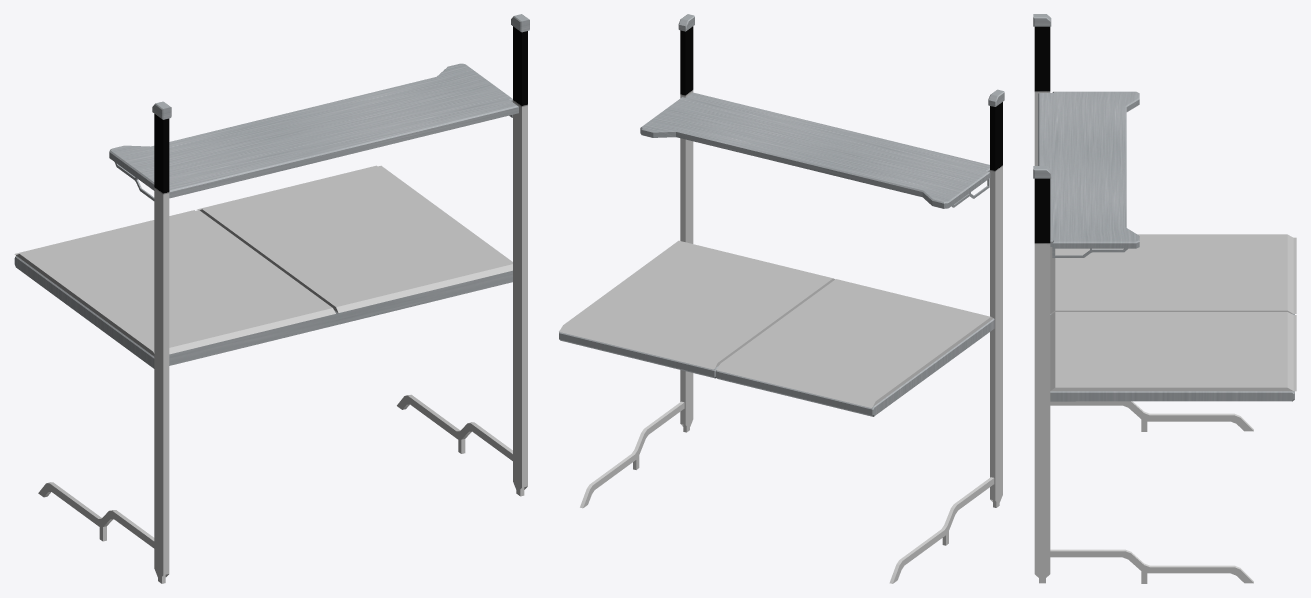
Rendered from PlantTable1.FBX.
The picture shows the model from 3 angles, left to right: view 1: azimuth 30°, elevation 25°; view 2: azimuth 150°, elevation 25°; view 3: azimuth 270°, elevation 25°; orthographic projection. The views are drawn at different scales.
Parts seen in each view (by area): view 1: PlantTable, shelf, shelf_frame, TableTop001; view 2: PlantTable, shelf, shelf_frame, TableTop001; view 3: PlantTable, shelf, shelf_frame, TableTop001.
Boxes of the visible parts, bbox=[...] form: PlantTable: bbox=[14, 165, 512, 356]; shelf: bbox=[109, 63, 518, 200]; shelf_frame: bbox=[38, 14, 529, 583]; TableTop001: bbox=[14, 255, 512, 368]; PlantTable: bbox=[559, 240, 993, 407]; shelf: bbox=[640, 92, 990, 208]; shelf_frame: bbox=[580, 14, 1004, 583]; TableTop001: bbox=[559, 318, 994, 416]; PlantTable: bbox=[1050, 234, 1296, 391]; shelf: bbox=[1038, 91, 1139, 257]; shelf_frame: bbox=[1033, 14, 1253, 583]; TableTop001: bbox=[1050, 314, 1294, 401].
Bounding box in the file's own units: 61.65 × 76.62 × 43.94.
